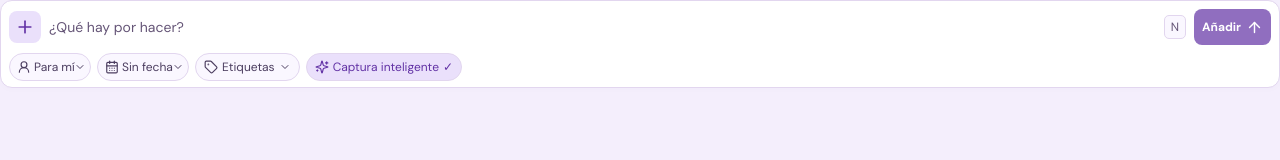
Creación desde la interfaz › el botón Añadir guarda, limpia el campo y permite otra tarea
Later steps or results of the test are not shown.
Type "Comprar café" into the field named "Crear tarea rápidamente" at (602, 27), box [49,7,1156,47]
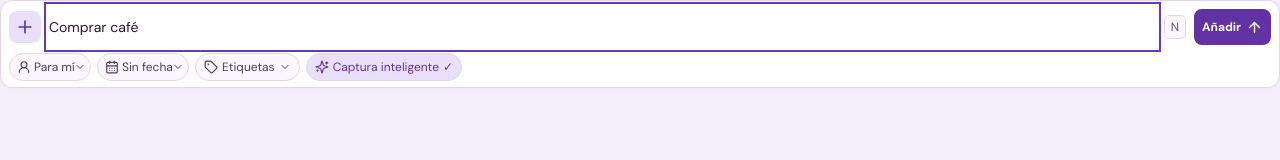
Click the button with aria-label "Crear tarea" at (1232, 27), box [1194,9,1271,45]
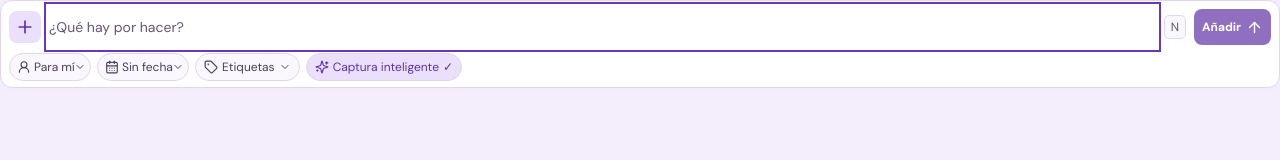
Now the field named "Crear tarea rápidamente" is empty, box [49,7,1156,47]
